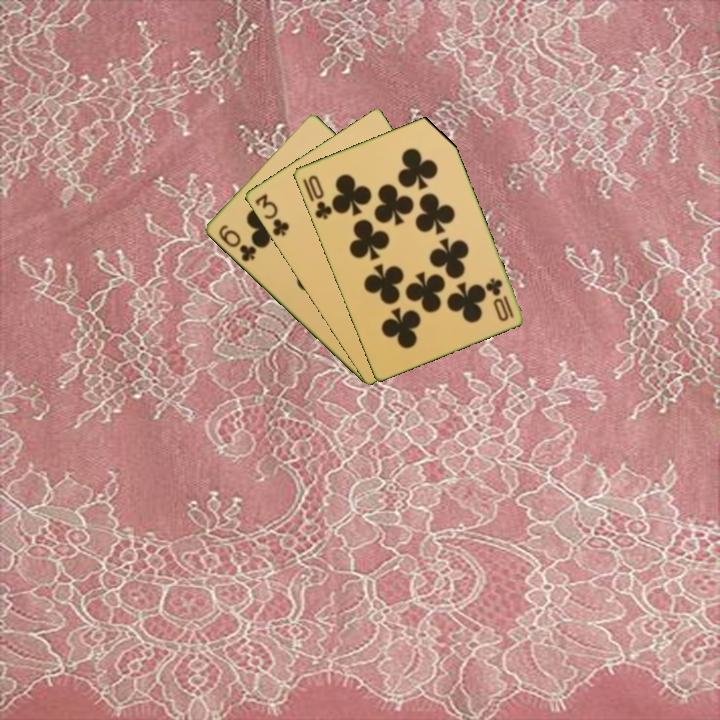10c: (482, 274, 516, 324), (304, 171, 335, 222)
3c: (251, 190, 292, 239)
6c: (214, 221, 259, 265)
